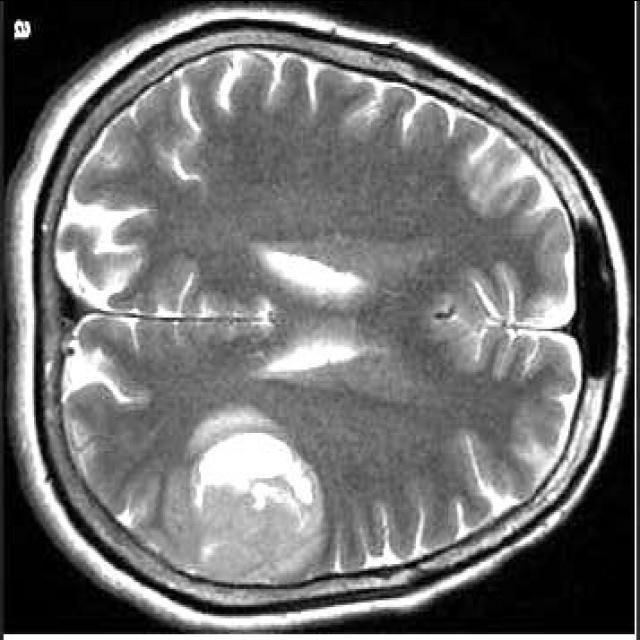tumor: (188, 427, 332, 583)
